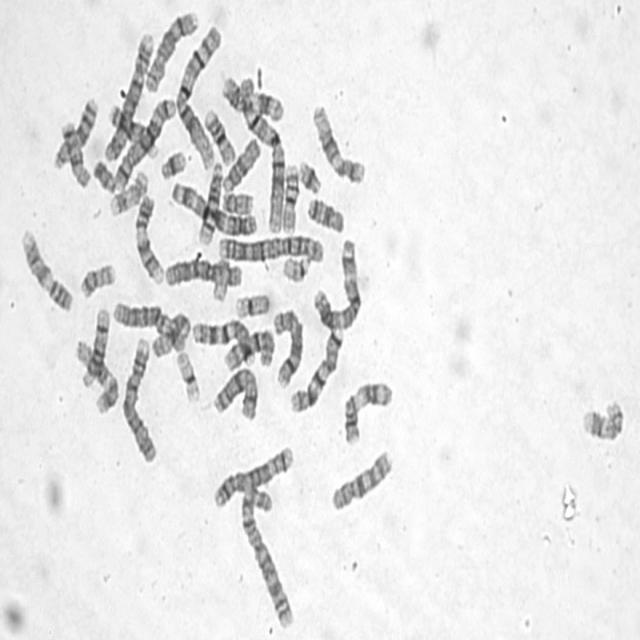A1: (236, 75, 286, 235), (172, 18, 223, 172)
A2: (236, 481, 296, 632), (214, 228, 326, 266)
A3: (167, 177, 258, 237), (310, 233, 364, 332)
B4: (101, 25, 155, 165), (119, 334, 159, 465)
B5: (111, 91, 177, 192), (210, 440, 296, 510)
C10: (328, 445, 394, 514), (221, 324, 276, 373)
C11: (340, 376, 394, 446), (218, 70, 286, 124)
C12: (308, 98, 368, 186), (72, 334, 119, 416)
C6: (109, 296, 189, 356), (162, 253, 244, 290)
C7: (286, 322, 345, 414), (189, 314, 258, 369)
C8: (142, 5, 200, 95), (270, 303, 304, 390)
C9: (17, 222, 74, 314), (131, 188, 166, 286)
D13: (49, 91, 99, 171), (106, 105, 160, 163)
D14: (77, 302, 111, 390), (194, 155, 226, 248)
D15: (219, 133, 262, 195), (58, 116, 93, 190)
E16: (200, 104, 236, 166), (279, 158, 301, 235)
E17: (106, 164, 150, 218), (578, 395, 626, 443)
E18: (304, 192, 346, 235), (219, 187, 255, 215)
F19: (173, 346, 201, 404), (232, 288, 272, 320)
F20: (152, 307, 194, 365), (76, 258, 118, 301)
G21: (157, 145, 187, 182), (296, 155, 322, 195)
G22: (278, 250, 312, 284), (209, 259, 232, 304)
X: (210, 362, 260, 423)
Y: (90, 154, 116, 194)
